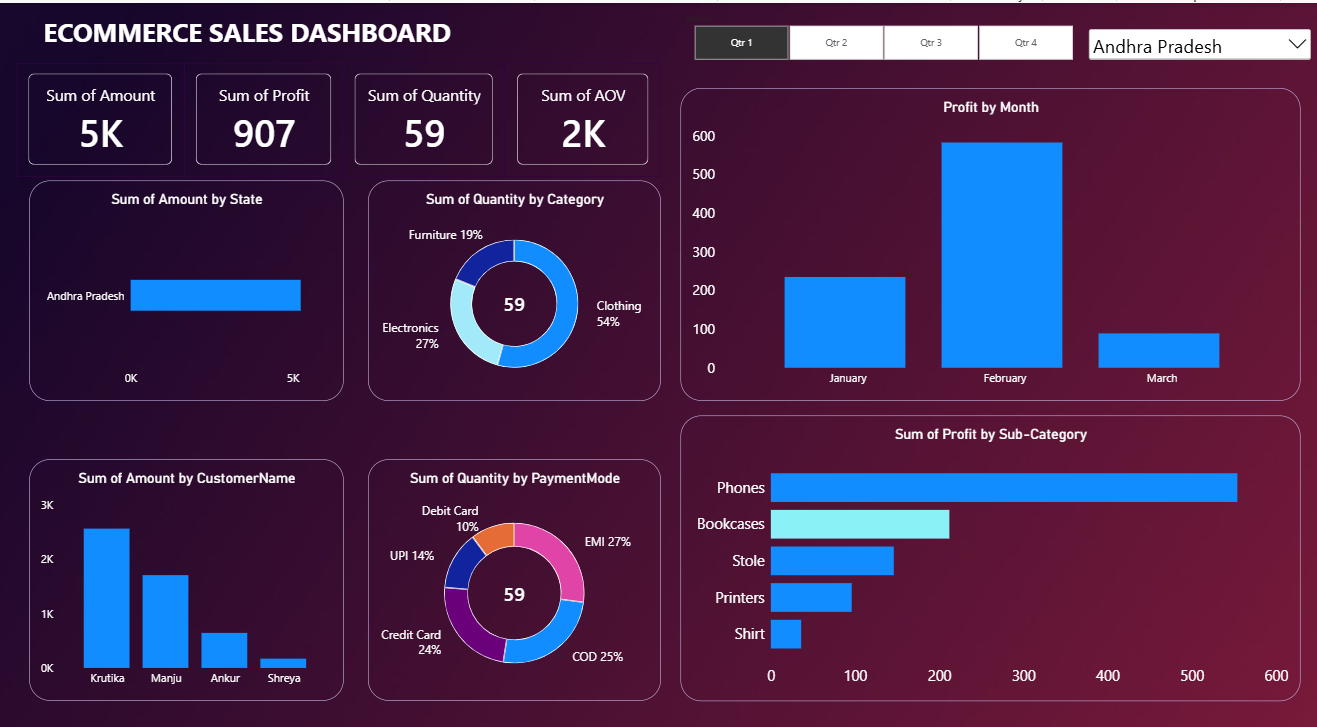

The dashboard page shown, as its layout file describes it:
{"tool":"powerbi","page":{"name":"Page 1","canvas":[1920,1080],"ordinal":0},"visuals":[{"type":"textbox","box":[45.3,16.5,648.4,70],"z":0},{"type":"columnChart","title":" Profit by Month","fields":{"Category":["Orders.Order Date.Variation.Date Hierarchy.Month"],"Y":["Sum(Details.Profit)"]},"box":[988,123.5,897.4,452.8],"z":1000},{"type":"barChart","fields":{"Category":["Details.Sub-Category"],"Y":["Sum(Details.Profit)"]},"box":[988,596.9,897.4,413.7],"z":2000},{"type":"donutChart","fields":{"Category":["Details.Category"],"Y":["Sum(Details.Quantity)"]},"box":[535.2,257.3,424,319],"z":3000},{"type":"donutChart","fields":{"Category":["Details.PaymentMode"],"Y":["Sum(Details.Quantity)"]},"box":[535.2,660.7,424,349.9],"z":4000},{"type":"cardVisual","fields":{"Data":["Sum(Details.Amount)"]},"box":[26.8,86.4,242.9,164.7],"z":5000},{"type":"cardVisual","fields":{"Data":["Sum(Details.Quantity)"]},"box":[500.2,86.4,234.6,164.7],"z":6000},{"type":"cardVisual","fields":{"Data":["Sum(Details.Profit)"]},"box":[269.6,86.4,230.5,164.7],"z":7000},{"type":"cardVisual","fields":{"Data":["Sum(Details.AOV)"]},"box":[734.8,86.4,224.4,164.7],"z":8000},{"type":"barChart","fields":{"Category":["Orders.State"],"Y":["Sum(Details.Amount)"]},"box":[45.3,257.3,454.9,319],"z":9000},{"type":"columnChart","fields":{"Category":["Orders.CustomerName"],"Y":["Sum(Details.Amount)"]},"box":[45.3,660.7,454.9,349.9],"z":10000},{"type":"slicer","fields":{"Values":["Orders.Order Date.Variation.Date Hierarchy.Quarter"]},"box":[988,16.5,586.6,67.9],"z":11000},{"type":"slicer","fields":{"Values":["Orders.State"]},"box":[1574.6,14.4,331.4,72],"z":12000}]}

Visuals, with their boxes in screenshot pixels (x1, y1, x2, y2), scaled from the page's 1920x1080 canvas onto the 1317x727 screenshot:
textbox: x1=31, y1=11, x2=476, y2=58
" Profit by Month" columnChart: x1=678, y1=83, x2=1293, y2=388
barChart - Details.Sub-Category x Sum(Details.Profit): x1=678, y1=402, x2=1293, y2=680
donutChart - Details.Category x Sum(Details.Quantity): x1=367, y1=173, x2=658, y2=388
donutChart - Details.PaymentMode x Sum(Details.Quantity): x1=367, y1=445, x2=658, y2=680
cardVisual - Sum(Details.Amount): x1=18, y1=58, x2=185, y2=169
cardVisual - Sum(Details.Quantity): x1=343, y1=58, x2=504, y2=169
cardVisual - Sum(Details.Profit): x1=185, y1=58, x2=343, y2=169
cardVisual - Sum(Details.AOV): x1=504, y1=58, x2=658, y2=169
barChart - Orders.State x Sum(Details.Amount): x1=31, y1=173, x2=343, y2=388
columnChart - Orders.CustomerName x Sum(Details.Amount): x1=31, y1=445, x2=343, y2=680
slicer - Orders.Order Date.Variation.Date Hierarchy.Quarter: x1=678, y1=11, x2=1080, y2=57
slicer - Orders.State: x1=1080, y1=10, x2=1307, y2=58
